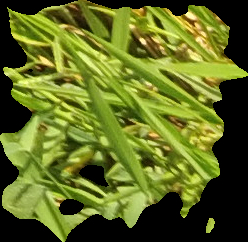grass: (1, 1, 247, 241)
